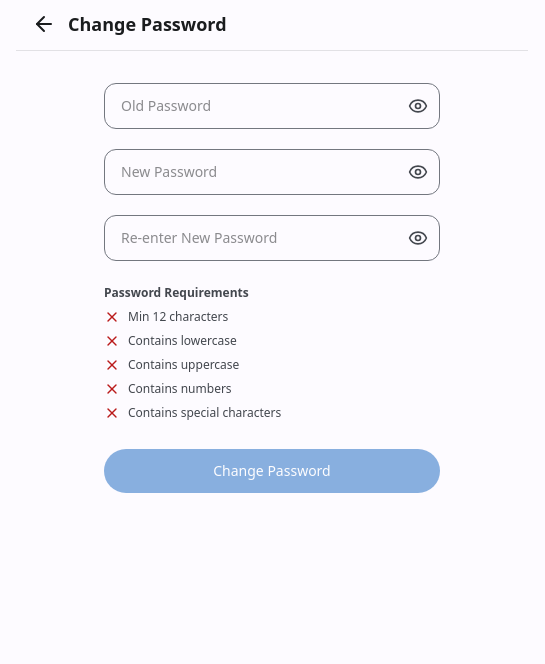
Test: ChangePasswordPage › shows success snackbar on valid submission
Type "Admin@12345" into the password field with placeholder "Old Password". click: (272, 106)
box: x1=104 y1=83 x2=440 y2=129
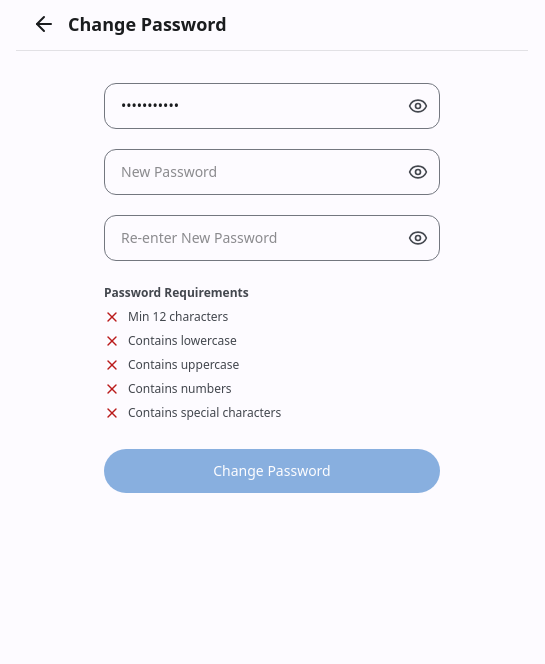
Type "NewSecure@12345" into the password field with placeholder "New Password". click: (272, 172)
box: x1=104 y1=149 x2=440 y2=195
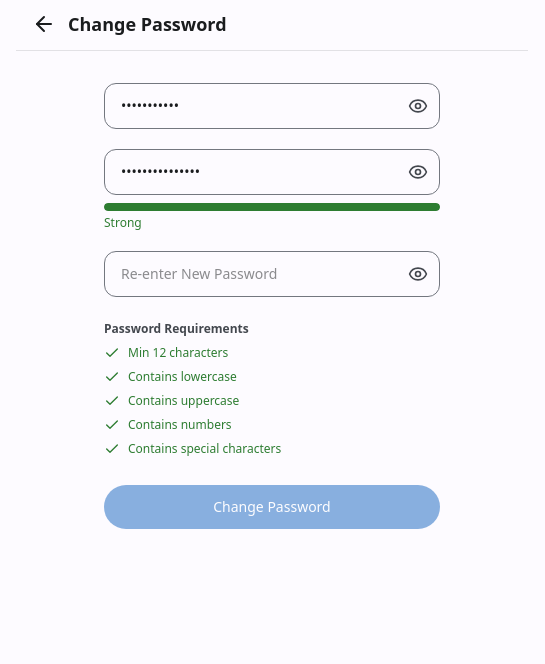
Type "NewSecure@12345" into the password field with placeholder "Re-enter New Password". click: (272, 274)
box: x1=104 y1=251 x2=440 y2=297
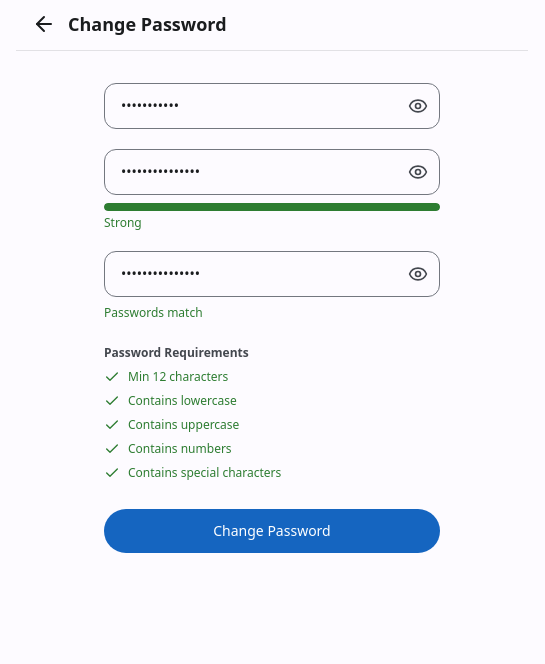
Click the button "Change Password". click: (272, 531)
box: x1=104 y1=509 x2=440 y2=553
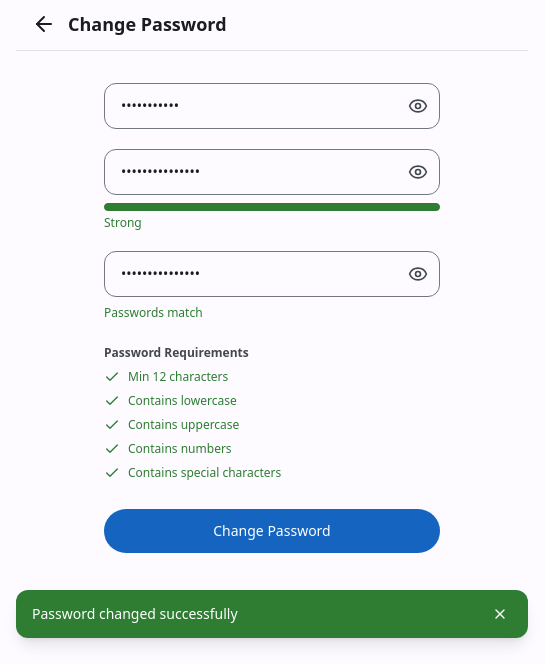
Check: the text "Password changed successfully" is shown, box x1=32 y1=604 x2=238 y2=624
